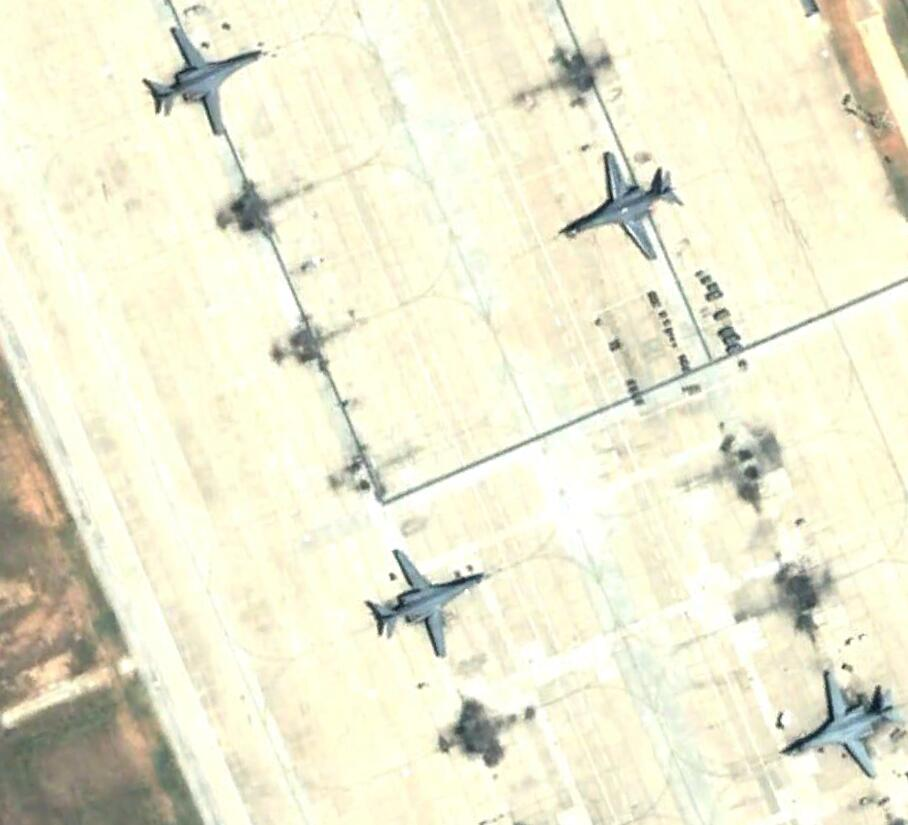A10: (365, 546, 495, 664), (561, 148, 689, 265), (777, 667, 907, 782), (137, 24, 267, 138)
